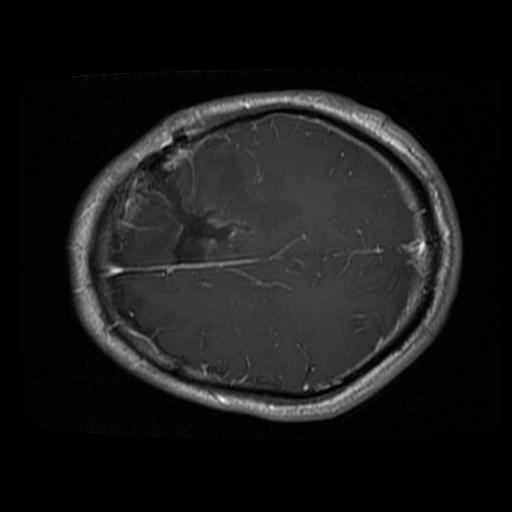glioma: (146, 172, 253, 267)
